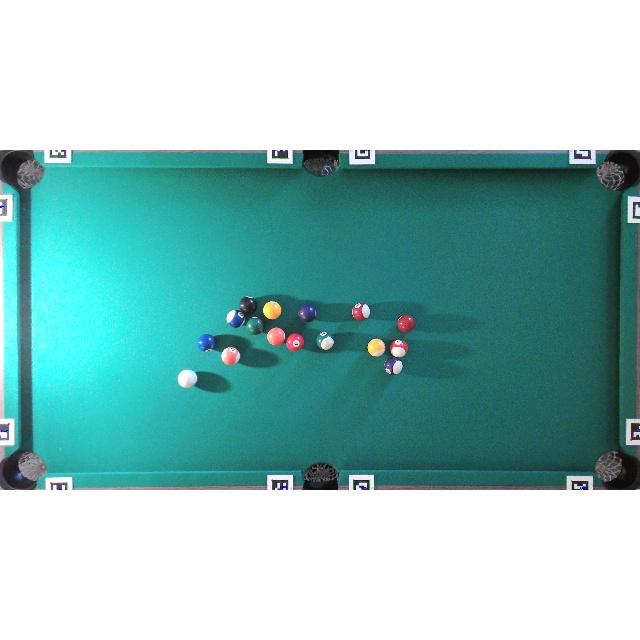cue ball: (177, 369, 197, 388)
other: (221, 346, 240, 366), (263, 300, 282, 320), (298, 304, 317, 323), (384, 356, 404, 374), (367, 338, 386, 356), (286, 333, 304, 352), (267, 327, 285, 346), (316, 332, 334, 351), (389, 339, 408, 357), (226, 310, 245, 328), (239, 296, 257, 315), (397, 314, 415, 332), (198, 334, 216, 352), (246, 317, 264, 335), (352, 302, 369, 320)
